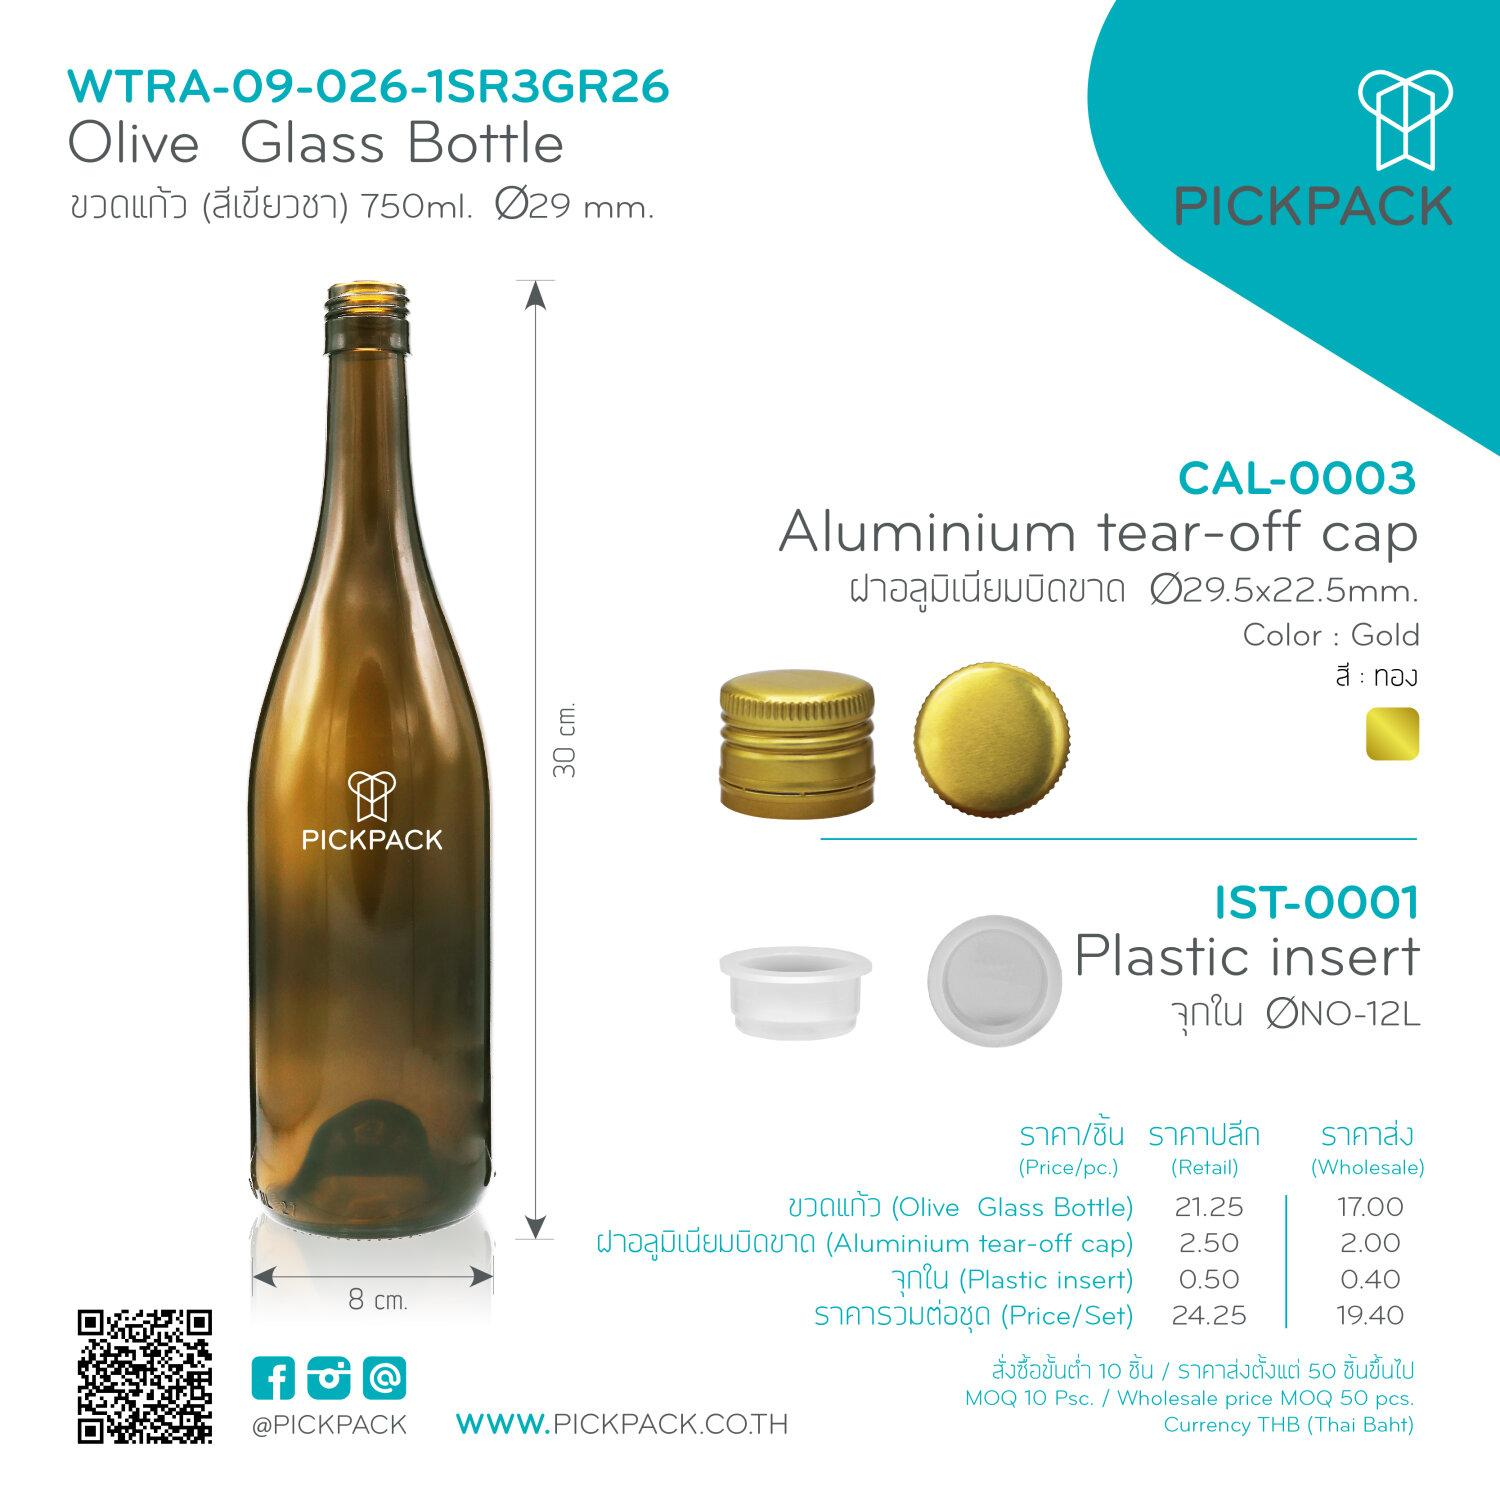glass_bottle: (231, 261, 518, 1277)
